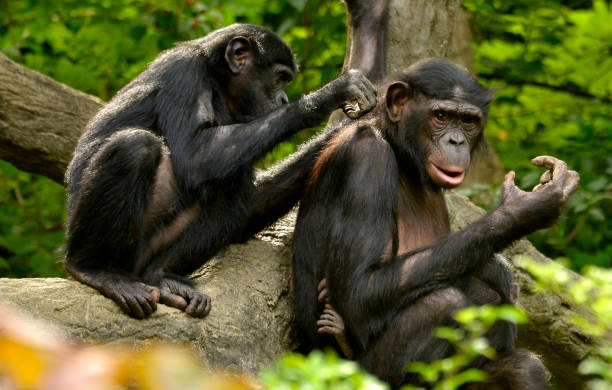chimpanzee: (387, 50, 508, 207), (191, 16, 311, 127)
